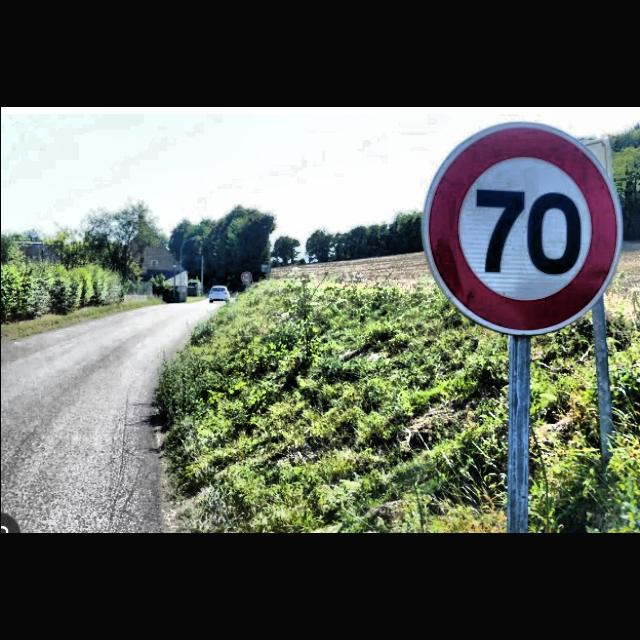speed_70: (420, 120, 624, 336)
